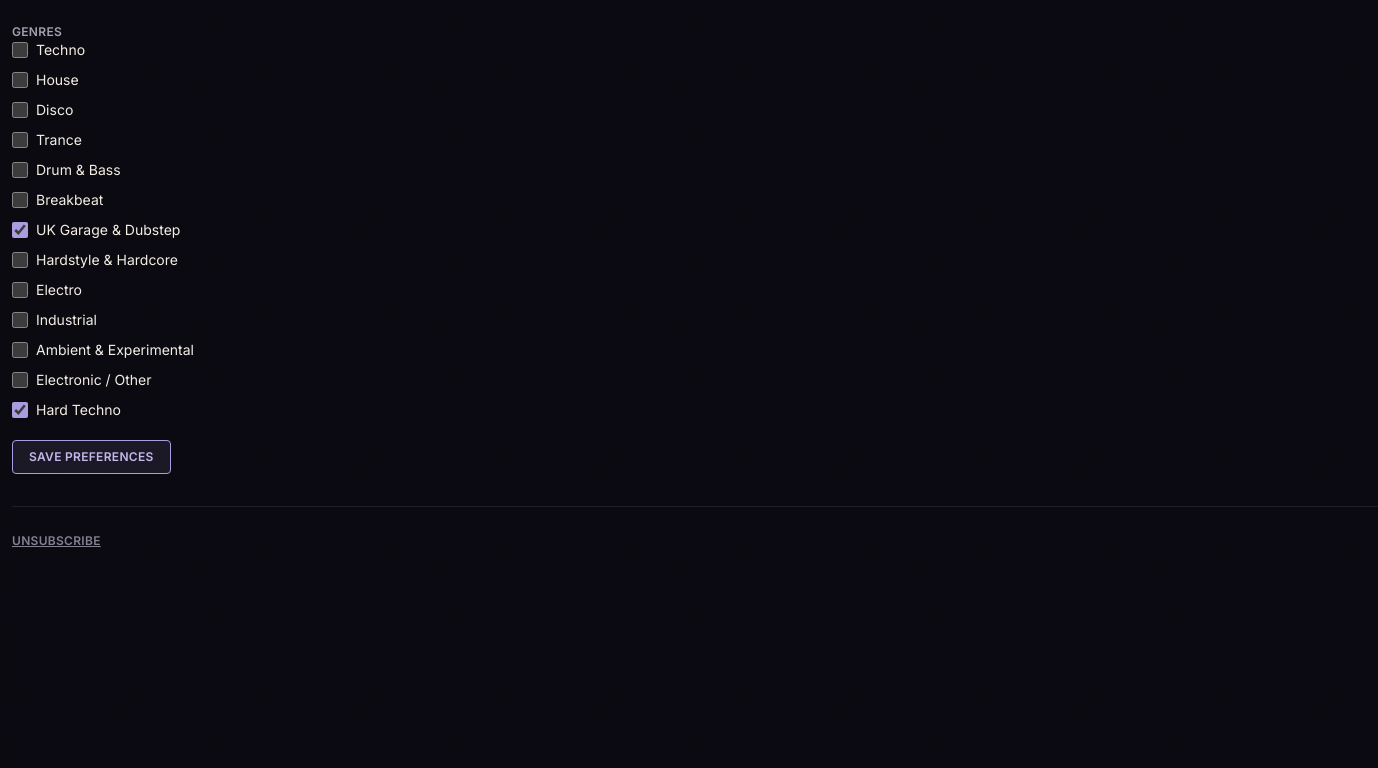
Scenario: NewsletterPreferencesForm › keeps a stored value from the earlier 12-group model visible and checked, so saving never silently drops it
The image size is (1378, 768).
Expected: the checkbox labelled "Hard Techno" is checked, [12,402,28,418]
Expected: the checkbox labelled "UK Garage & Dubstep" is checked, [12,222,28,238]
Click the button "Save preferences". click: (91,457)
box: [12,440,171,474]
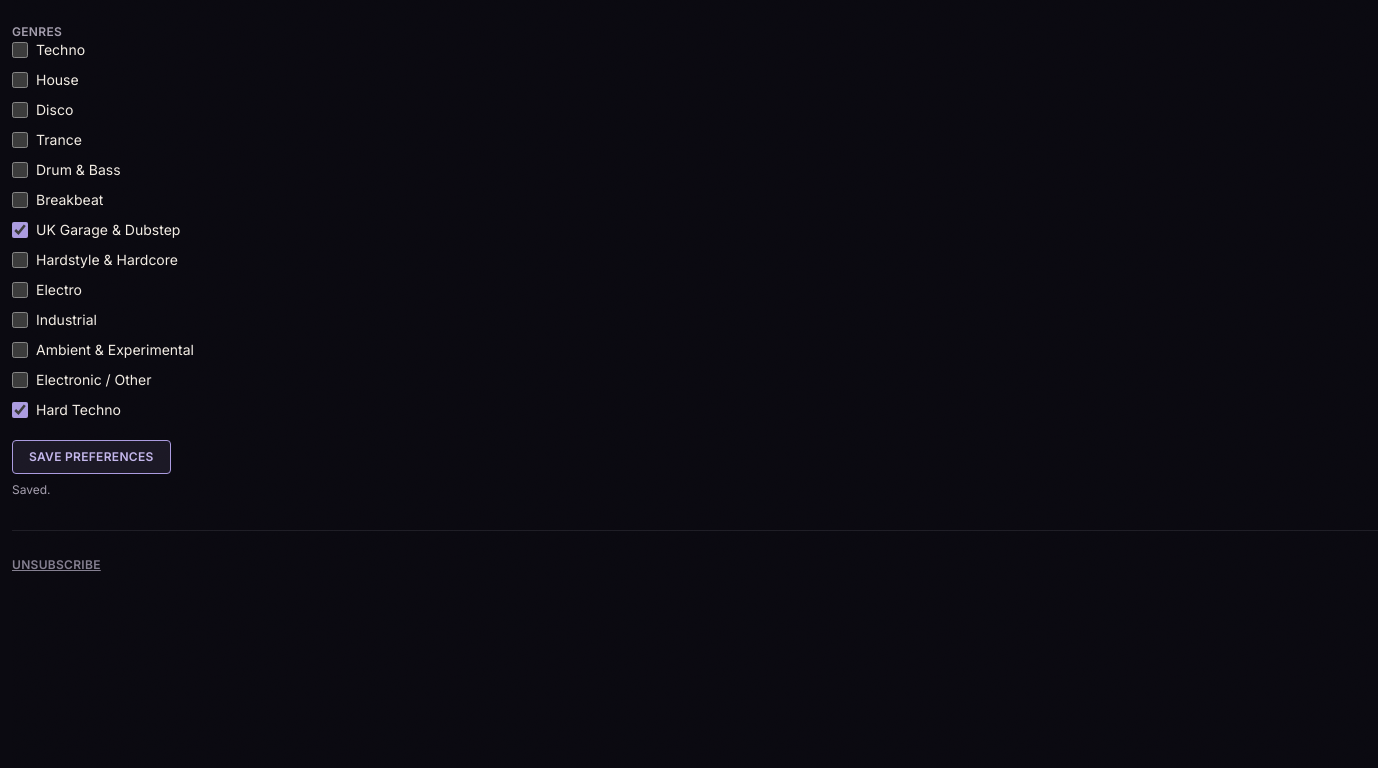
Expected: the text "Saved." is shown, [12,482,51,497]
